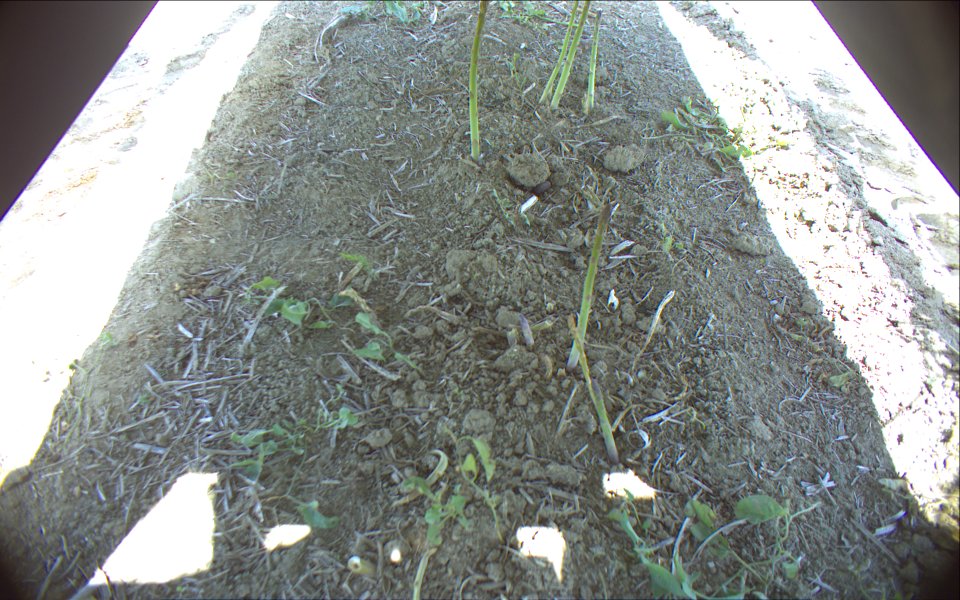aspa: (567, 201, 610, 372), (538, 1, 581, 104), (552, 1, 590, 109), (468, 1, 490, 159), (571, 316, 596, 403), (595, 382, 620, 465), (586, 9, 603, 108), (529, 11, 579, 27), (518, 315, 534, 353)
